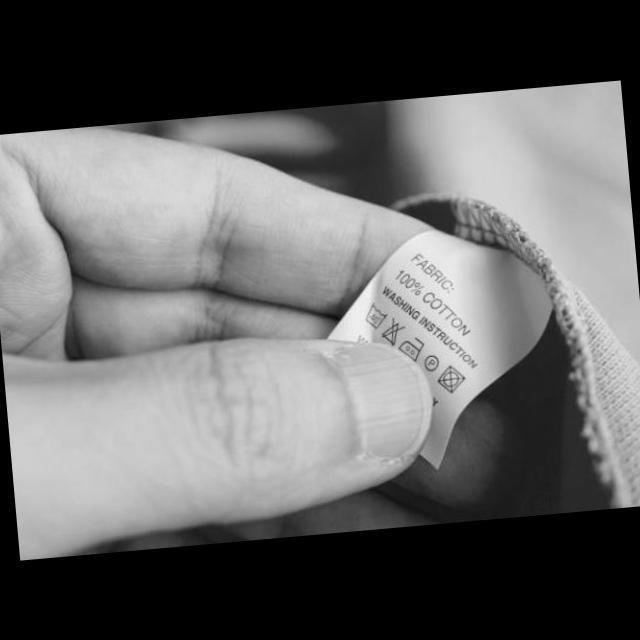40C: (361, 298, 391, 332)
DN_bleach: (378, 316, 407, 350)
DN_tumble_dry: (433, 362, 468, 398)
iron_medium: (396, 333, 428, 365)
normal_dry_clean_solvents: (422, 354, 441, 374)
